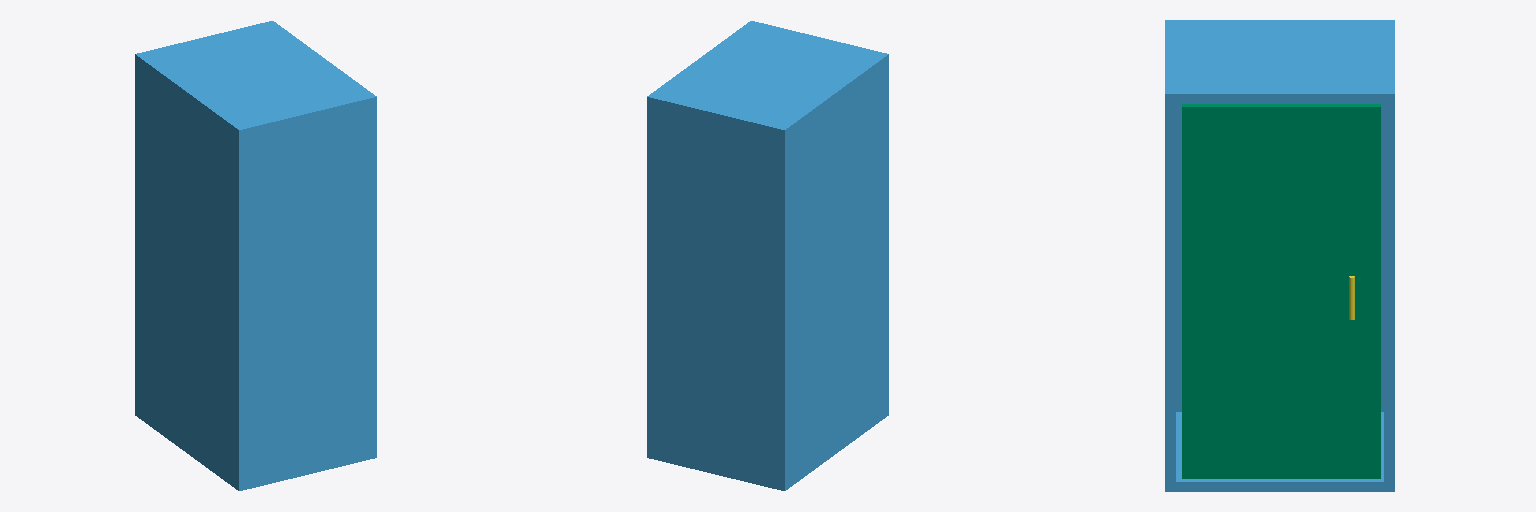
The robot description file, URDF, robot "my_cabinet":
<?xml version="1.0" ?>
<robot name="my_cabinet">
	<link name="world"/>
	<joint name="virtual_joint" type="fixed">
		<parent link="world"/>
		<child link="base_cabinet_link"/>
		<origin xyz="0.0 0.0 0.0" rpy="0.0 0.0 0.0"/>
	</joint>
	<link name="base_cabinet_link">
		<visual>
			<origin xyz="0.0 -0.0025 -0.36657680555751493" rpy="0.0 0.0 0.0"/>
			<geometry>
				<box size="0.3 0.3927473882353333 0.018"/>
			</geometry>
		</visual>
		<collision name="base_cabinet_link_collision_0">
			<origin xyz="0.0 -0.0025 -0.36657680555751493" rpy="0.0 0.0 0.0"/>
			<geometry>
				<box size="0.3 0.3927473882353333 0.018"/>
			</geometry>
		</collision>
		<visual>
			<origin xyz="0.0 0.18487369411766666 0.0" rpy="0.0 0.0 0.0"/>
			<geometry>
				<box size="0.3 0.018 0.7511536111150299"/>
			</geometry>
		</visual>
		<collision name="base_cabinet_link_collision_1">
			<origin xyz="0.0 0.18487369411766666 0.0" rpy="0.0 0.0 0.0"/>
			<geometry>
				<box size="0.3 0.018 0.7511536111150299"/>
			</geometry>
		</collision>
		<visual>
			<origin xyz="0.0 -0.18987369411766666 0.0" rpy="0.0 0.0 0.0"/>
			<geometry>
				<box size="0.3 0.018 0.7511536111150299"/>
			</geometry>
		</visual>
		<collision name="base_cabinet_link_collision_2">
			<origin xyz="0.0 -0.18987369411766666 0.0" rpy="0.0 0.0 0.0"/>
			<geometry>
				<box size="0.3 0.018 0.7511536111150299"/>
			</geometry>
		</collision>
		<visual>
			<origin xyz="0.0 -0.0025 0.36657680555751493" rpy="0.0 0.0 0.0"/>
			<geometry>
				<box size="0.3 0.3927473882353333 0.018"/>
			</geometry>
		</visual>
		<collision name="base_cabinet_link_collision_3">
			<origin xyz="0.0 -0.0025 0.36657680555751493" rpy="0.0 0.0 0.0"/>
			<geometry>
				<box size="0.3 0.3927473882353333 0.018"/>
			</geometry>
		</collision>
		<visual>
			<origin xyz="-0.141 -0.0025 0.0" rpy="0.0 0.0 0.0"/>
			<geometry>
				<box size="0.018 0.3927473882353333 0.7511536111150299"/>
			</geometry>
		</visual>
		<collision name="base_cabinet_link_collision_4">
			<origin xyz="-0.141 -0.0025 0.0" rpy="0.0 0.0 0.0"/>
			<geometry>
				<box size="0.018 0.3927473882353333 0.7511536111150299"/>
			</geometry>
		</collision>
		<inertial>
			<mass value="0.200000"/>
			<inertia ixx="0.011975" ixy="0.0" ixz="0.0" iyy="0.010904" iyz="0.0" izz="0.004071"/>
		</inertial>
	</link>
	<link name="door_link">
		<visual>
			<origin xyz="0.0 -0.17087369411766665 0.0"/>
			<geometry>
				<box size="0.018 0.3417473882353333 0.7051536111150298"/>
			</geometry>
		</visual>
		<collision name="door_link_collision">
			<origin xyz="0.0 -0.17087369411766665 0.0"/>
			<geometry>
				<box size="0.018 0.3417473882353333 0.7051536111150298"/>
			</geometry>
		</collision>
		<inertial>
			<mass value="0.200000"/>
			<inertia ixx="0.010234" ixy="0.0" ixz="0.0" iyy="0.008293" iyz="0.0" izz="0.001952"/>
		</inertial>
	</link>
	<joint name="door_joint" type="revolute">
		<origin xyz="0.141 -0.17087369411766665 0.0" rpy="0.000000 -0.000000 3.141593"/>
		<axis xyz="0 0 1"/>
		<parent link="base_cabinet_link"/>
		<child link="door_link"/>
		<limit effort="50" lower="-1.658062789394613" upper="0" velocity="10"/>
		<dynamics friction="3.5" damping="3.5"/>
	</joint>
	<link name="handle_link">
		<visual>
			<origin xyz="0.0 0.0 0.0" rpy="0.0 0.0 0.0"/>
			<geometry>
				<cylinder length="0.08" radius="0.005"/>
			</geometry>
		</visual>
		<collision name="handle_link_collision_0">
			<origin xyz="0.0 0.0 0.0" rpy="0.0 0.0 0.0"/>
			<geometry>
				<cylinder length="0.08" radius="0.005"/>
			</geometry>
		</collision>
		<visual>
			<origin xyz="-0.01 0.0 0.02" rpy="0.0 1.5707963267948966 0.0"/>
			<geometry>
				<cylinder length="0.02" radius="0.003"/>
			</geometry>
		</visual>
		<collision name="handle_link_collision_1">
			<origin xyz="-0.01 0.0 0.02" rpy="0.0 1.5707963267948966 0.0"/>
			<geometry>
				<cylinder length="0.01" radius="0.003"/>
			</geometry>
		</collision>
		<visual>
			<origin xyz="-0.01 0.0 -0.02" rpy="0.0 1.5707963267948966 0.0"/>
			<geometry>
				<cylinder length="0.02" radius="0.003"/>
			</geometry>
		</visual>
		<collision name="handle_link_collision_2">
			<origin xyz="-0.01 0.0 -0.02" rpy="0.0 1.5707963267948966 0.0"/>
			<geometry>
				<cylinder length="0.02" radius="0.003"/>
			</geometry>
		</collision>
		<inertial>
			<mass value="0.050000"/>
			<inertia ixx="0.000027" ixy="0.0" ixz="0.0" iyy="0.000029" iyz="0.0" izz="0.000003"/>
		</inertial>
	</link>
	<joint name="handle_joint" type="fixed">
		<origin xyz="-0.028999999999999998 -0.2917473882353333 0.0" rpy="0.000000 -0.000000 3.141593"/>
		<parent link="door_link"/>
		<child link="handle_link"/>
	</joint>
	<gazebo reference="base_cabinet_link">
		<sensor name="main_sensor" type="contact">
			<selfCollide>true</selfCollide>
			<alwaysOn>true</alwaysOn>
			<updateRate>5.0</updateRate>
			<material>Gazebo/Red</material>
			<contact>
				<collision>base_cabinet_link_collision_0_collision</collision>
				<collision>base_cabinet_link_collision_1_collision</collision>
				<collision>base_cabinet_link_collision_2_collision</collision>
				<collision>base_cabinet_link_collision_3_collision</collision>
				<collision>base_cabinet_link_collision_4_collision</collision>
			</contact>
			<plugin name="gazebo_ros_bumper_controller" filename="libgazebo_ros_bumper.so">
				<bumperTopicName>/contact</bumperTopicName>
				<frameName>world</frameName>
			</plugin>
		</sensor>
	</gazebo>
	<gazebo reference="door_link">
		<sensor name="main_sensor" type="contact">
			<selfCollide>true</selfCollide>
			<alwaysOn>true</alwaysOn>
			<updateRate>5.0</updateRate>
			<material>Gazebo/Red</material>
			<contact>
				<collision>door_link_collision_collision</collision>
			</contact>
			<plugin name="gazebo_ros_bumper_controller" filename="libgazebo_ros_bumper.so">
				<bumperTopicName>/contact_door</bumperTopicName>
				<frameName>contact_door</frameName>
			</plugin>
		</sensor>
	</gazebo>
	<gazebo reference="door_link">
		<mu>3.0</mu>
		<mu2>3.0</mu2>
		<kp>10000000</kp>
		<kd>100</kd>
	</gazebo>
</robot>

--- What the picture shows (computed from the rendered views, not written in the file) ---
Views: 3 orthographic renders of the robot side by side, from view 1: azimuth 30°, elevation 25°; view 2: azimuth 150°, elevation 25°; view 3: azimuth 270°, elevation 25°.
Model my_cabinet with 4 links and 3 joints (1 revolute, 2 fixed), rooted at world, posed every joint at zero.
Visible links, largest first — view 1: base_cabinet_link; view 2: base_cabinet_link; view 3: door_link, base_cabinet_link.
Boxes of the visible links, <box> form: base_cabinet_link: <box>135,21,376,490</box>; base_cabinet_link: <box>647,21,888,490</box>; door_link: <box>1182,104,1380,478</box>; base_cabinet_link: <box>1165,20,1394,491</box>.
Size in the robot's own frame: 0.325 by 0.3927 by 0.7512 metres.
Geometry: primitives only (box / cylinder / sphere), no mesh files.
